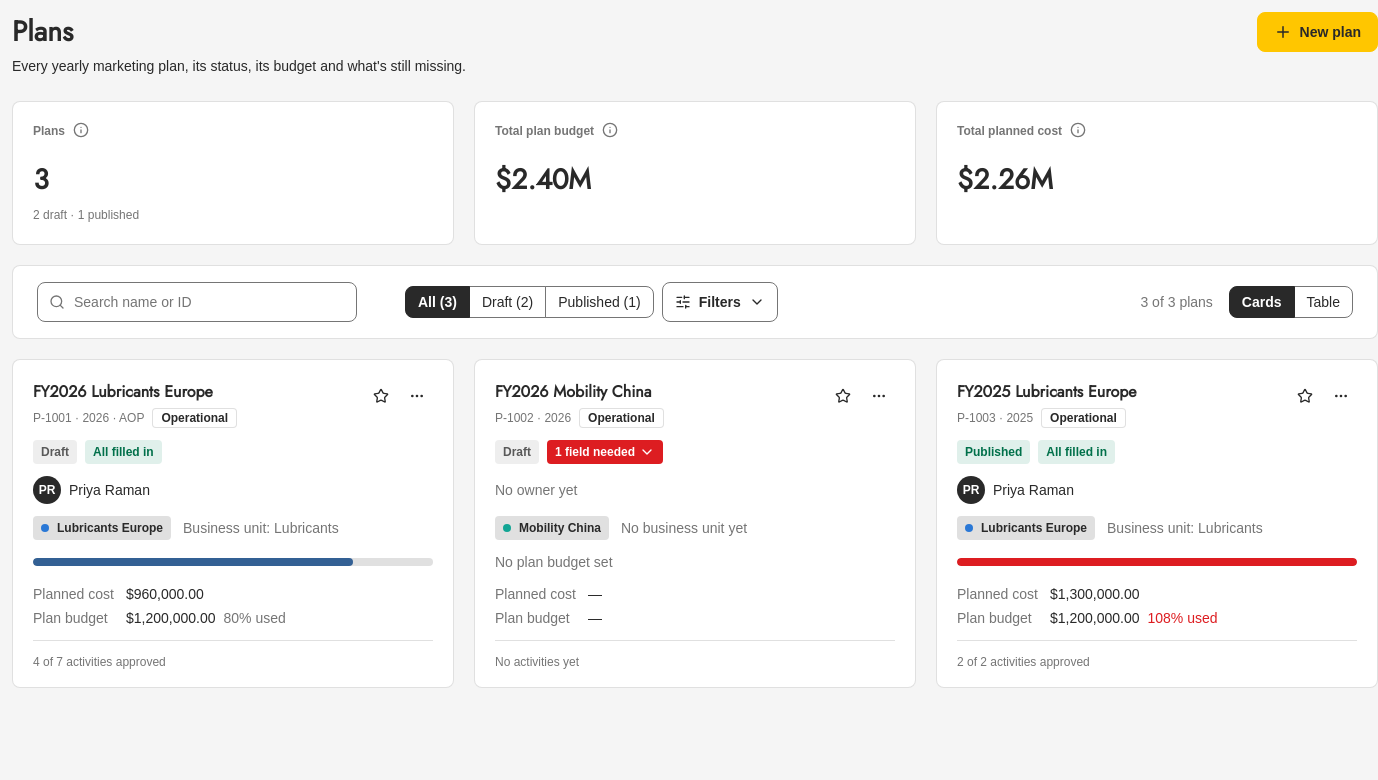
PlansPage (US2, FR-001 – FR-004) › shows the table layout and keeps it in the address
This screenshot has width=1378, height=780.
Click the button "Table".
click(1323, 302)  # box x1=1294 y1=286 x2=1353 y2=318
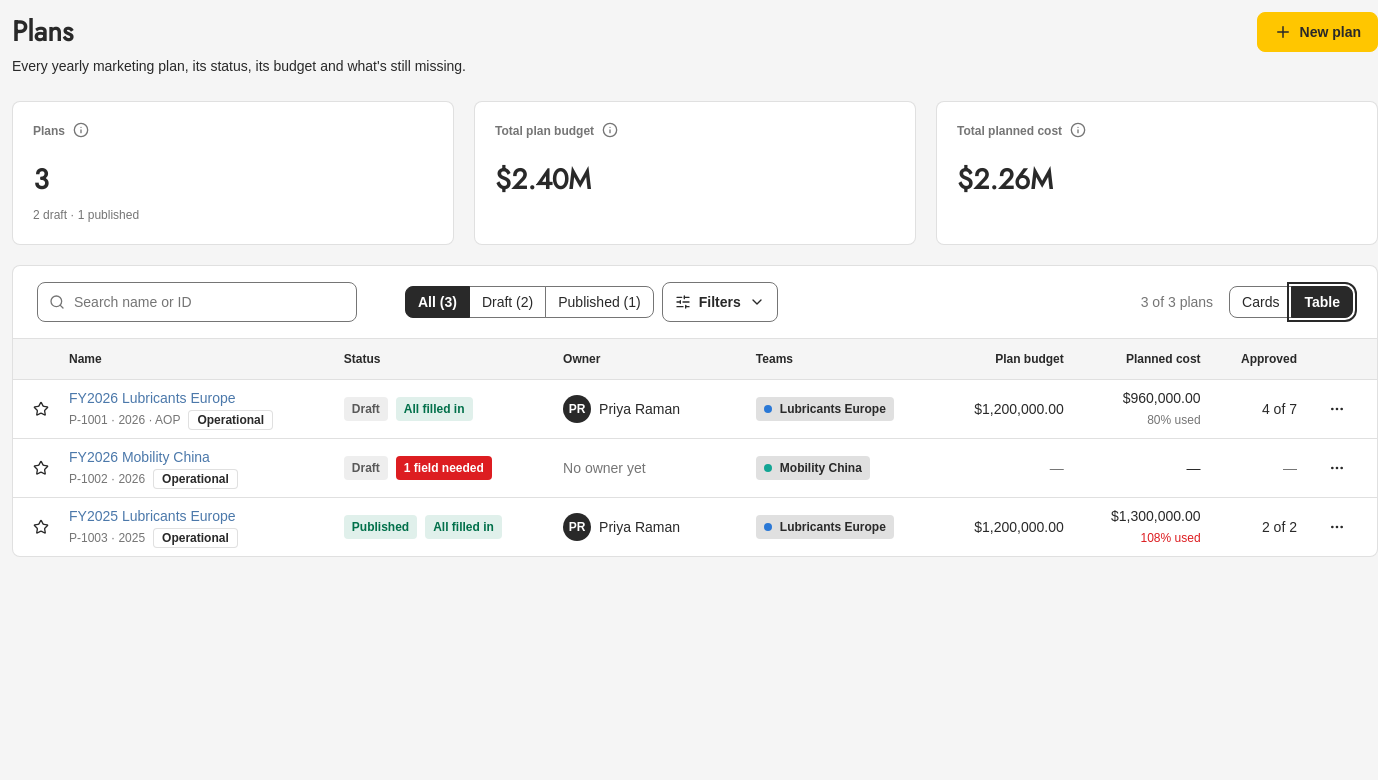
Result: the number of rows is 4 at x1=13 y1=339 x2=1377 y2=379; x1=13 y1=379 x2=1377 y2=438; x1=13 y1=438 x2=1377 y2=497; x1=13 y1=497 x2=1377 y2=556
